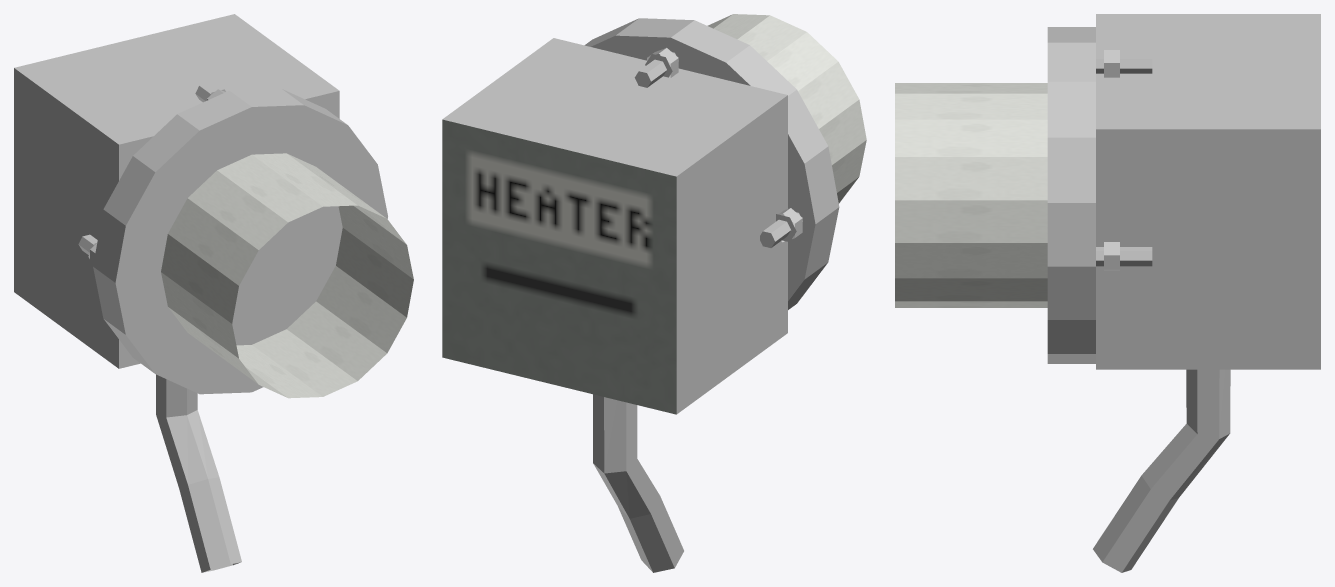
The model's file is body.obj.
3 renders of one model, left to right at view 1: azimuth 30°, elevation 25°; view 2: azimuth 150°, elevation 25°; view 3: azimuth 270°, elevation 25°, orthographic. The views are drawn at different scales.
Bounding box in the file's own units: 0.42 × 0.7244 × 0.53.
